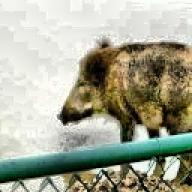boar: (55, 37, 192, 186)
